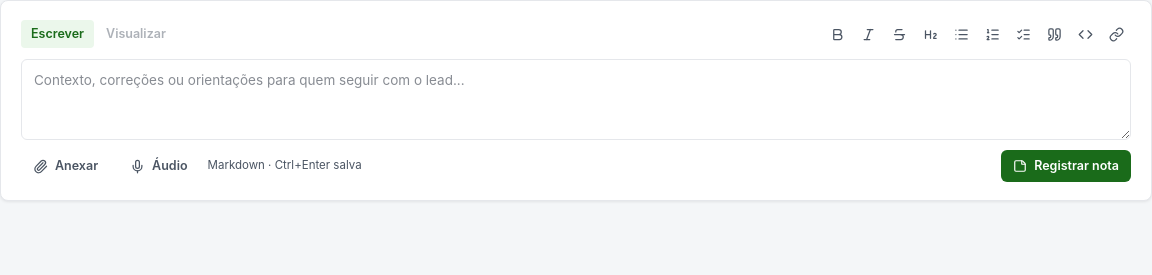
Test case: NoteComposer — menções › não sugere de novo quem já foi mencionado
This screenshot has width=1152, height=275.
Step 1. Type "@car" into the text box named "Corpo da nota" → (576, 100), box 21,59 -> 1131,140
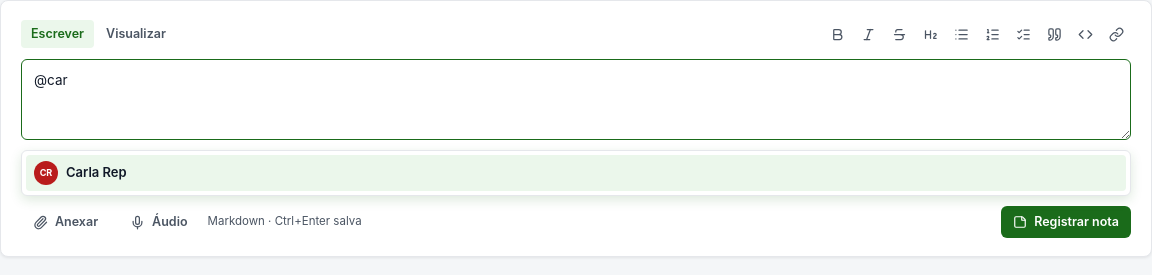
Step 2. Click the option "CR Carla Rep" → (96, 172), box 26,155 -> 1126,191
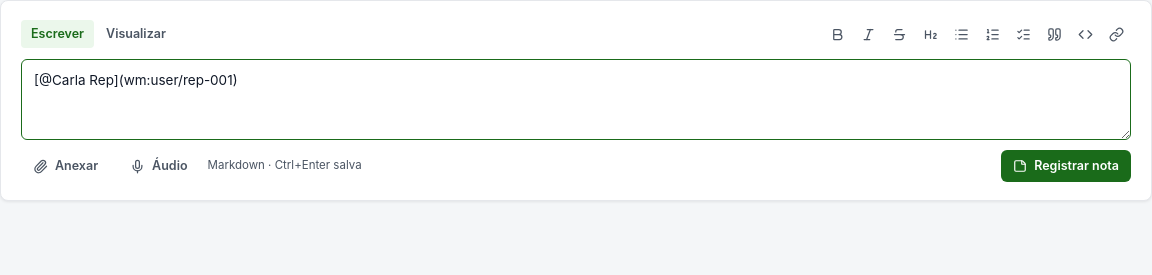
Step 3. Type "e @" into the text box named "Corpo da nota" → (576, 100), box 21,59 -> 1131,140
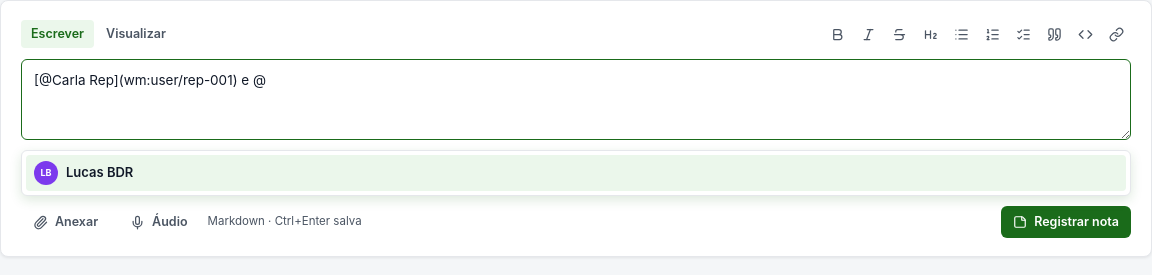
Now the text "Lucas BDR" is shown, box 66,163 -> 133,183
